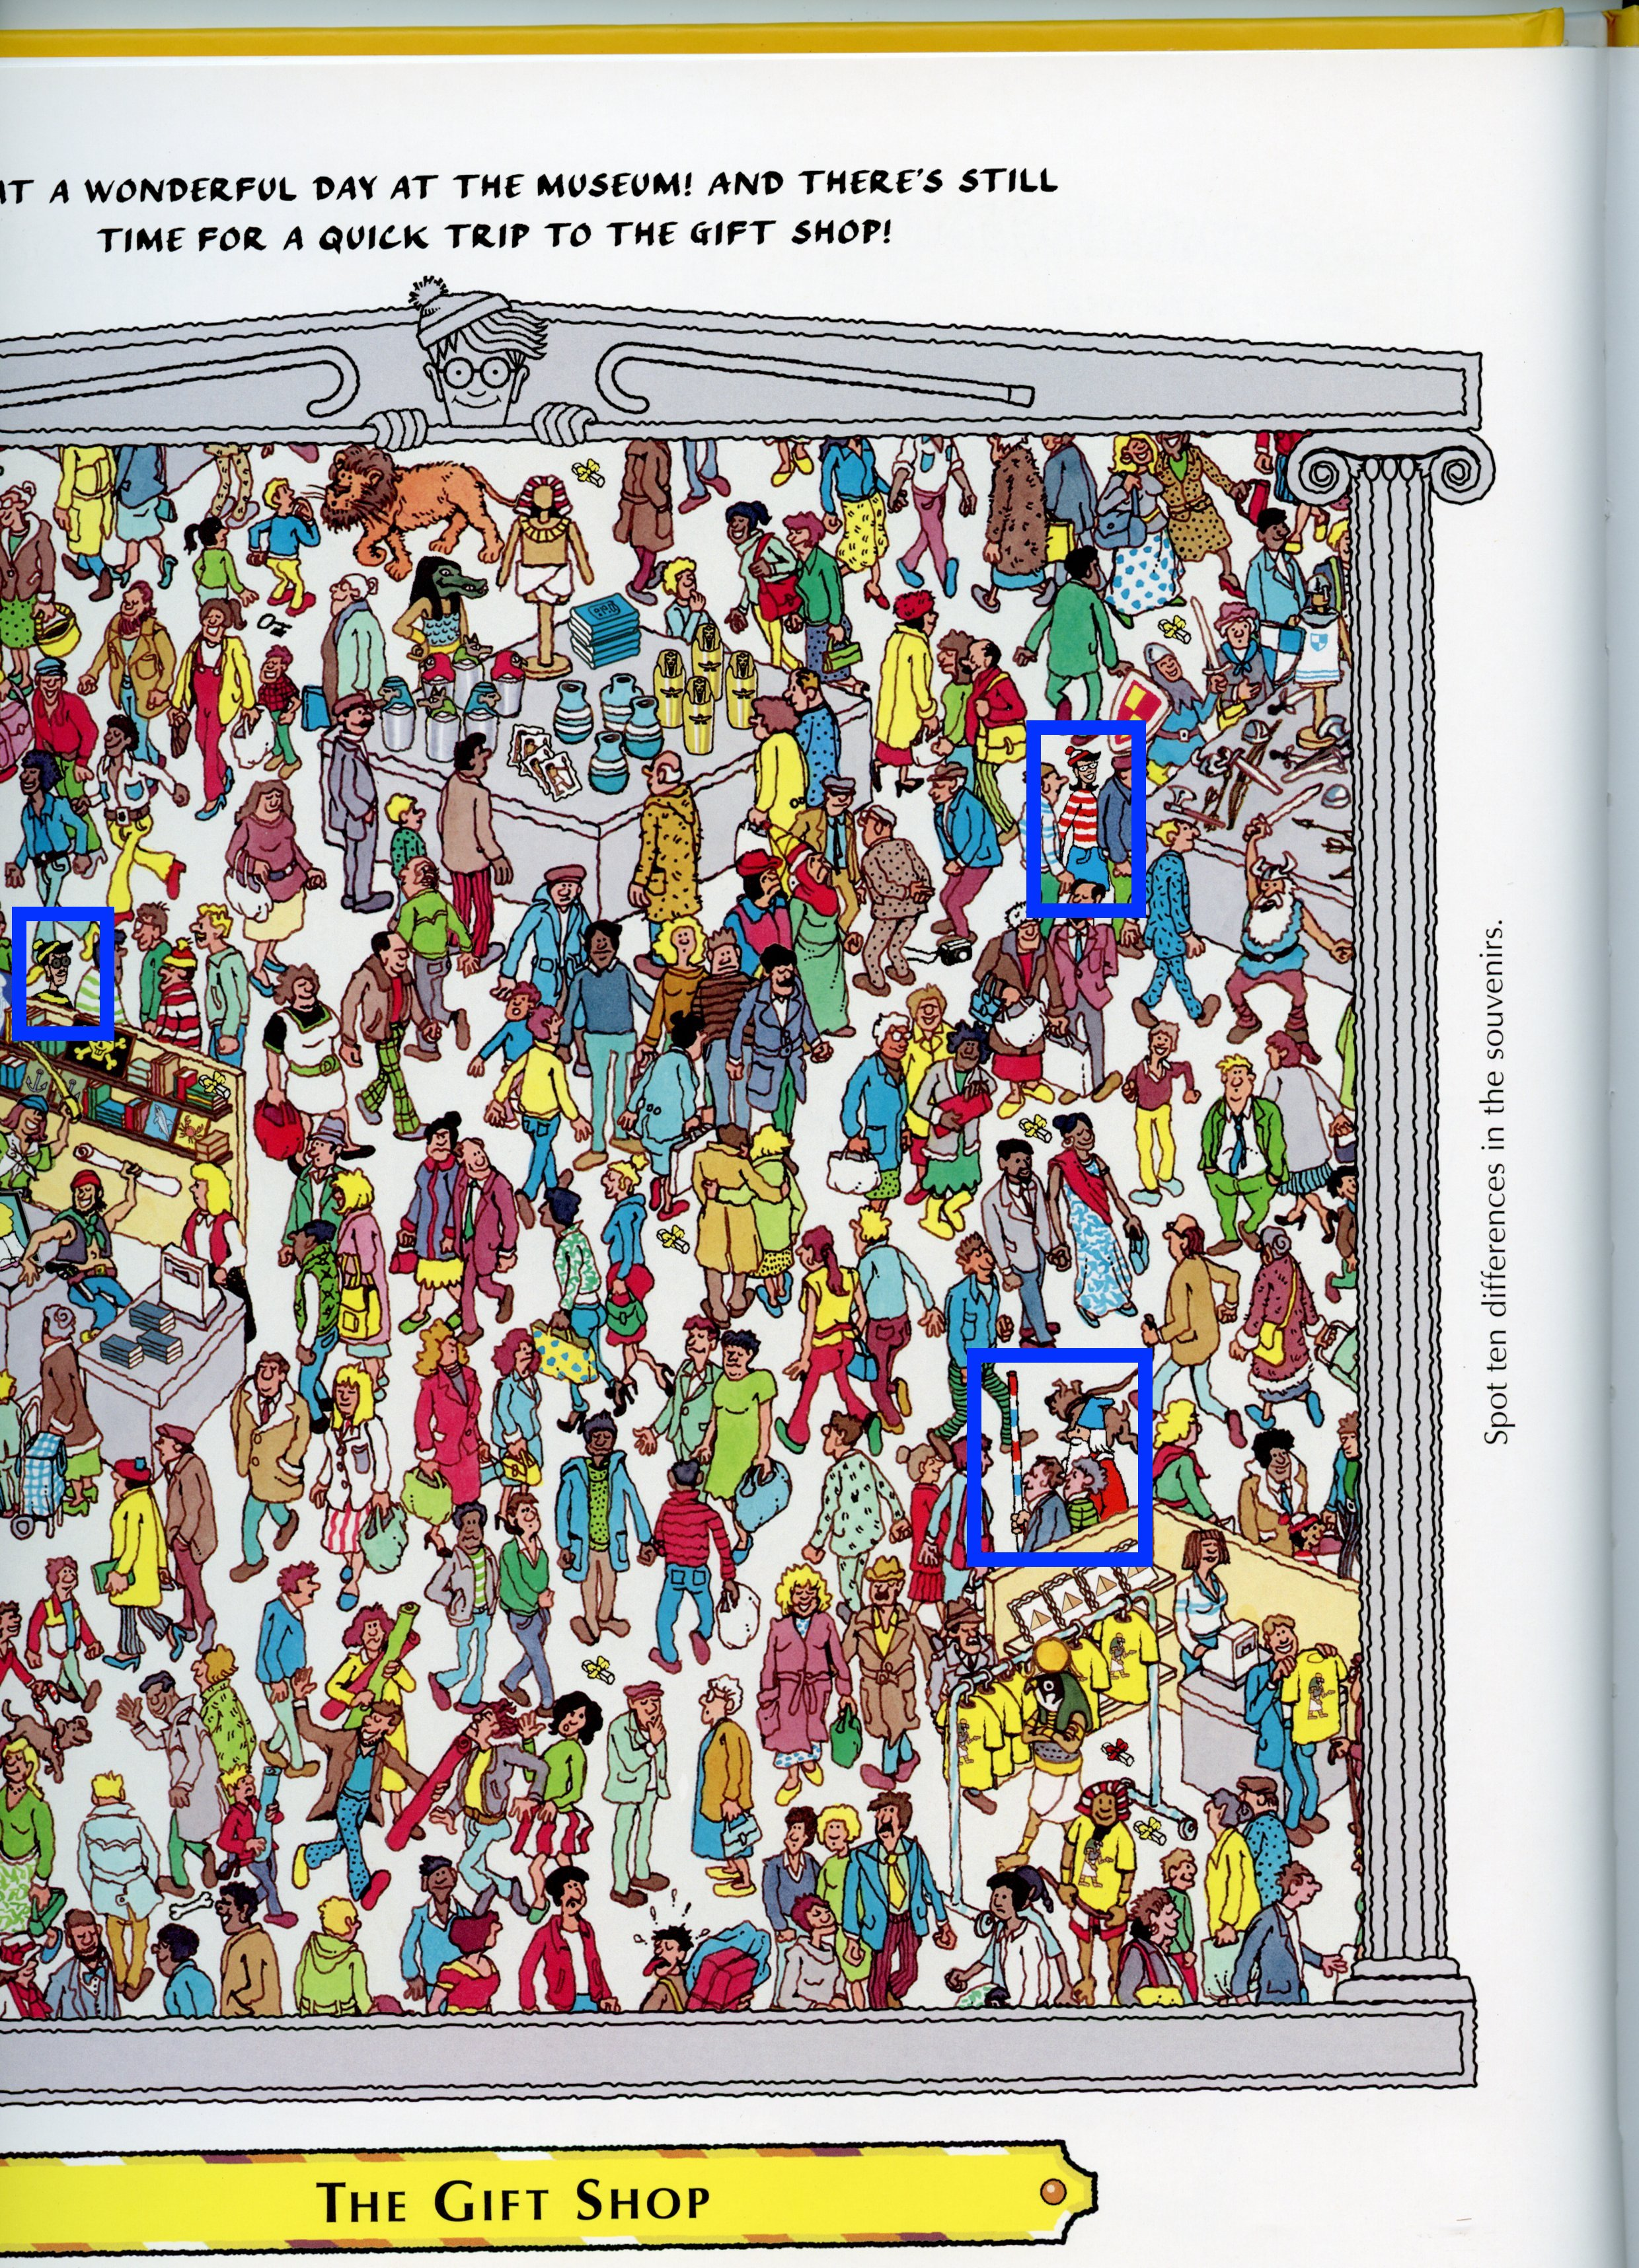odlaw: (5, 905, 127, 1065)
waldo: (1023, 715, 1165, 947)
